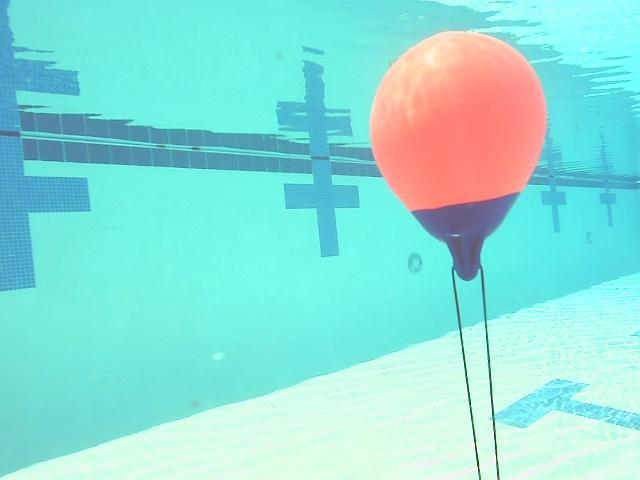buoy: (369, 30, 546, 282)
